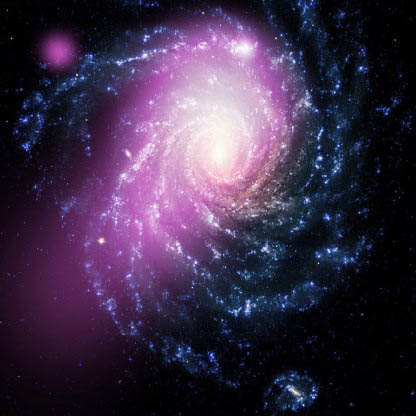NGC 1232: (21, 9, 386, 411)
